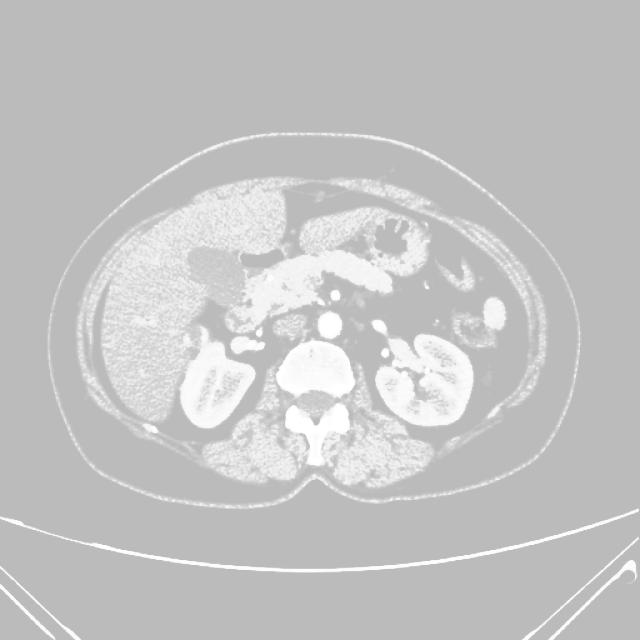TUMOR: (166, 227, 498, 425)
